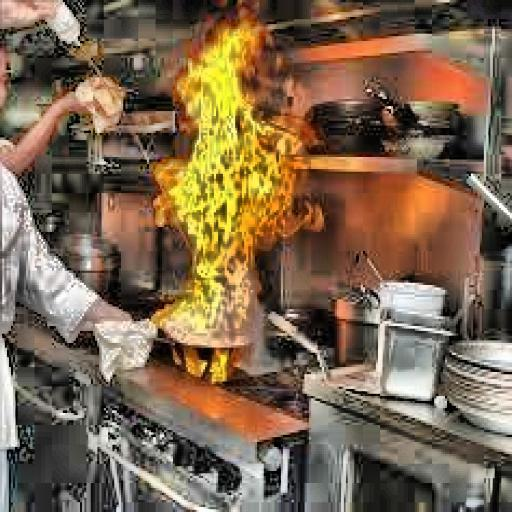fire: (154, 29, 316, 386)
